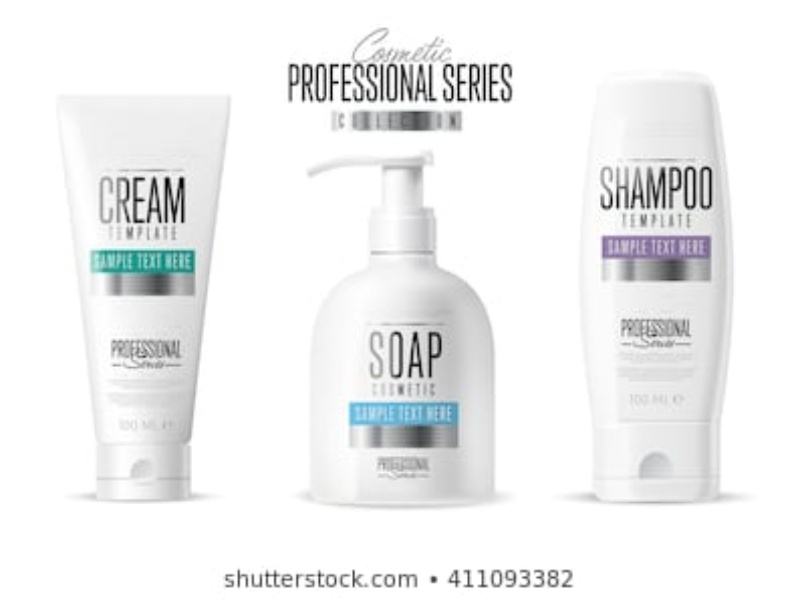shampoo-bottle: (300, 143, 532, 519), (42, 84, 237, 512), (572, 64, 752, 521)
